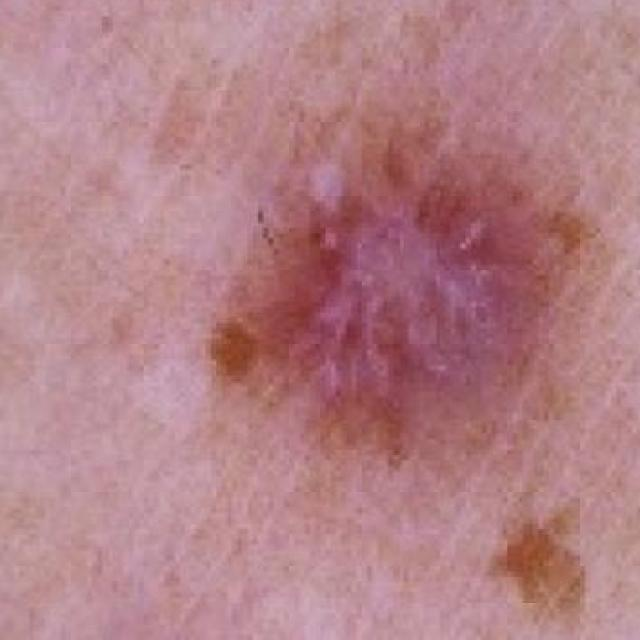DF: (180, 94, 640, 640)
